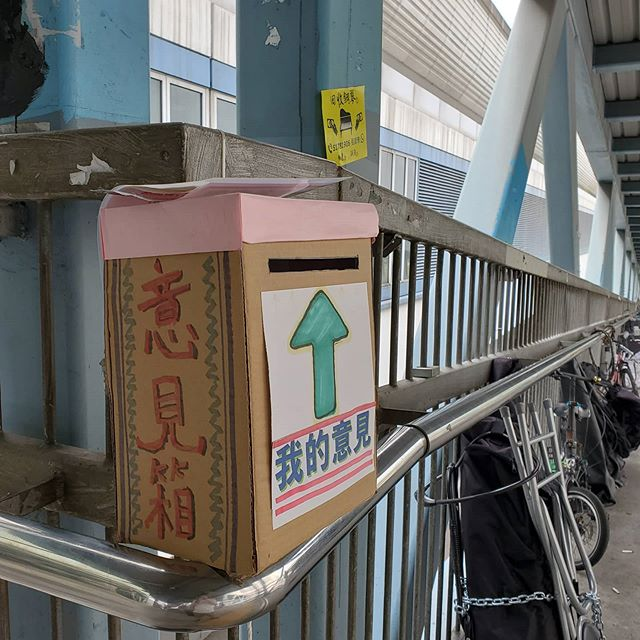sign: (105, 230, 237, 583), (244, 285, 385, 505), (309, 83, 369, 167)
